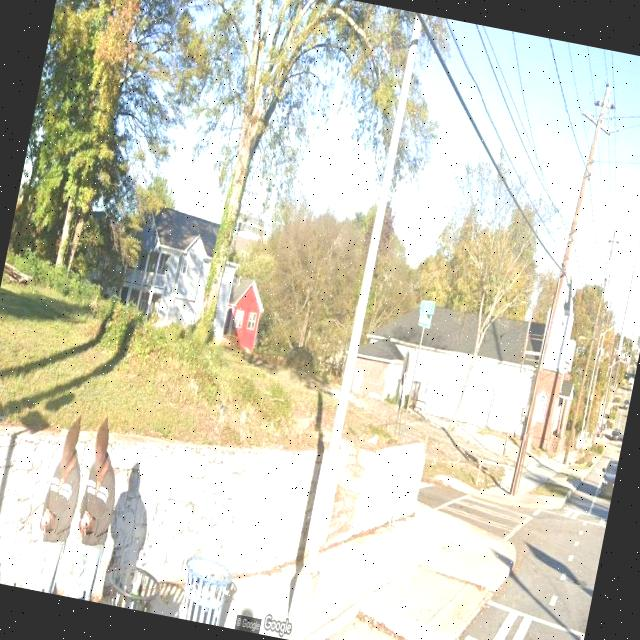trash_can: (174, 553, 236, 627), (102, 560, 164, 614)
